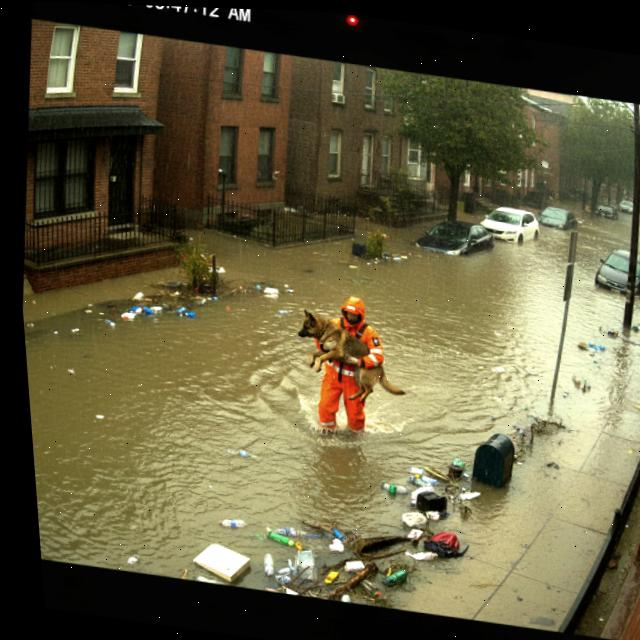dog: (278, 302, 415, 417)
rescuer: (295, 286, 394, 450)
